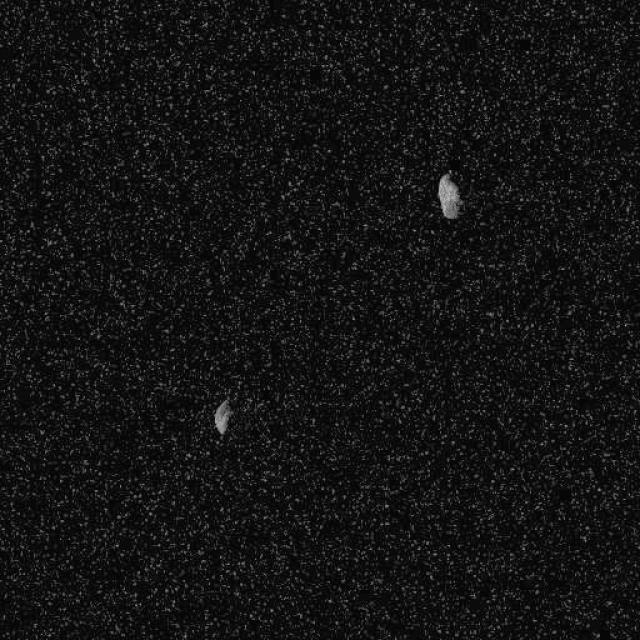D2: (436, 171, 462, 220), (212, 398, 232, 434)
